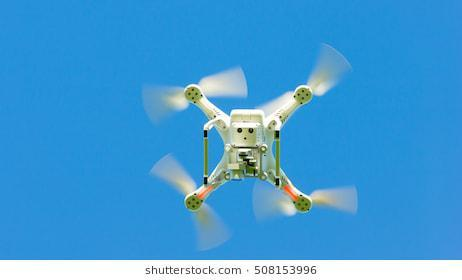drone: (148, 41, 361, 243)
